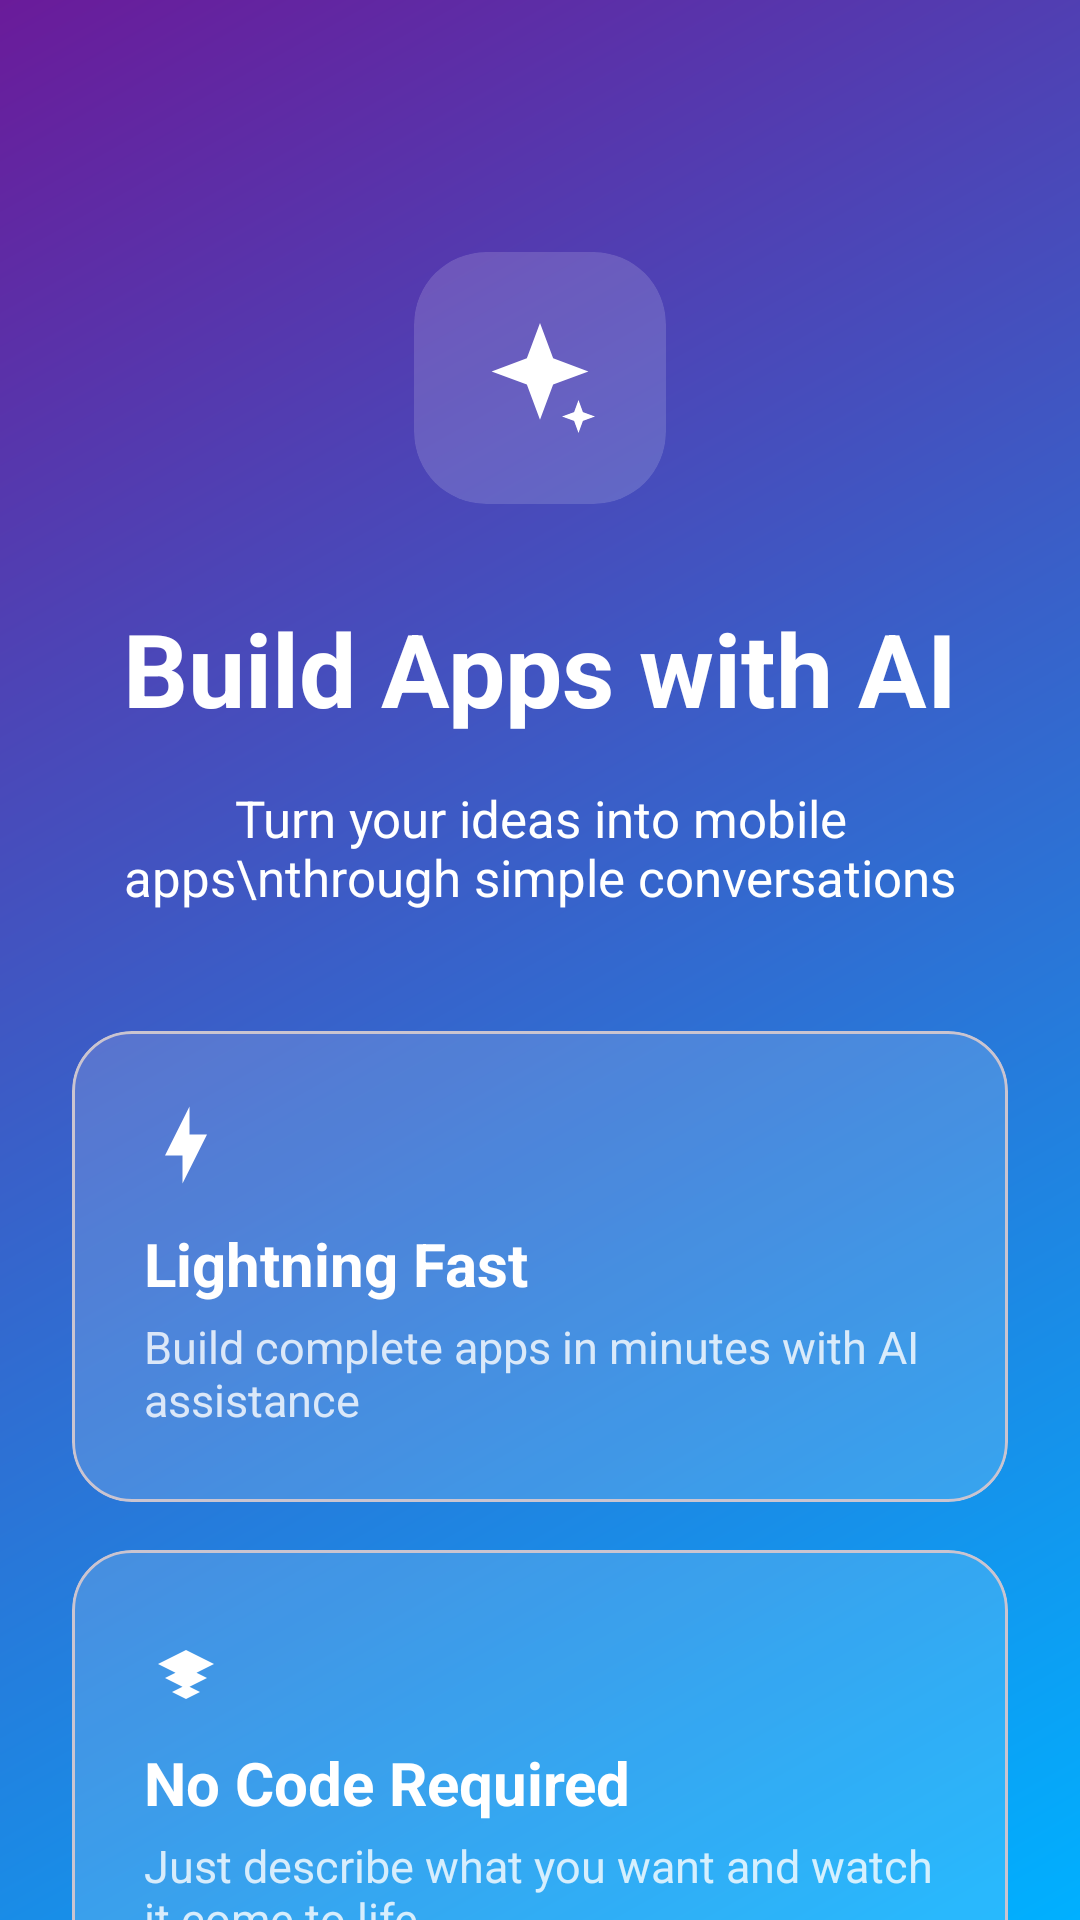

Point at icon controls on the screen. Image size 1080 × 1920, points as [x,y].
bolt: [186,1145]
layers: [186,1674]
sparkle: [543,378]
